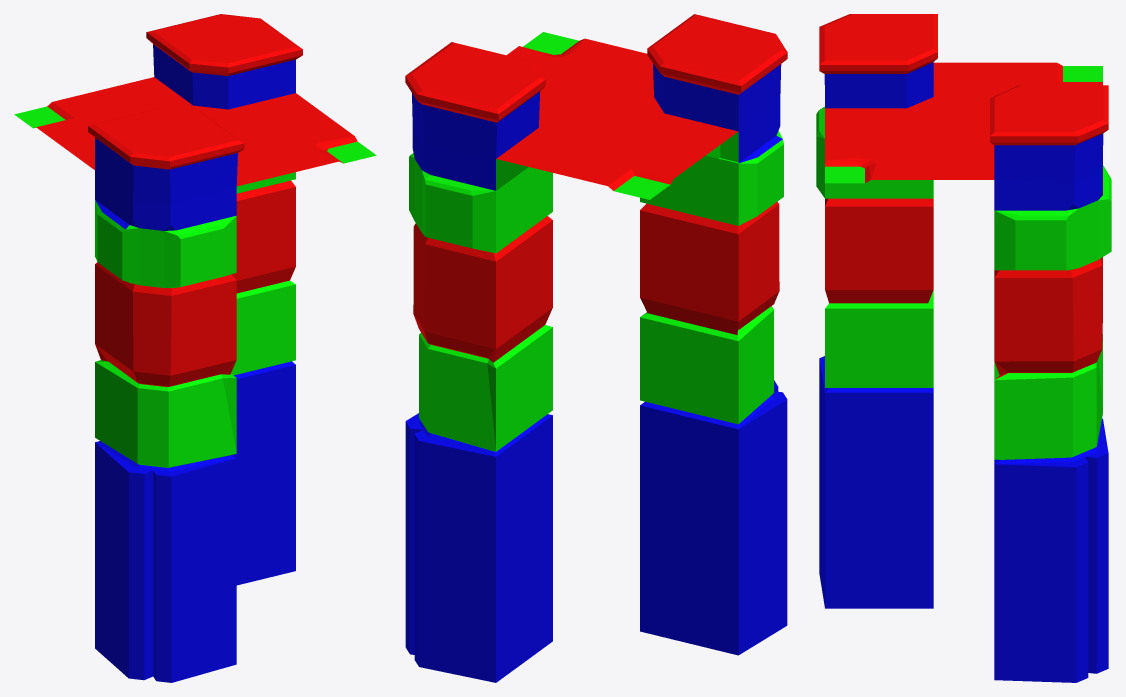
The model's file is dungeon_base_mergedCorner.fbx.
The picture shows the model from 3 angles, left to right: view 1: azimuth 30°, elevation 25°; view 2: azimuth 150°, elevation 25°; view 3: azimuth 270°, elevation 25°; orthographic projection. The views are drawn at different scales.
Parts seen in each view (by area): view 1: dungeon_base_mergedCorner; view 2: dungeon_base_mergedCorner; view 3: dungeon_base_mergedCorner.
Boxes of the visible parts, left/top/right/bottom form: dungeon_base_mergedCorner: left=14, top=14, right=376, bottom=682; dungeon_base_mergedCorner: left=405, top=14, right=787, bottom=682; dungeon_base_mergedCorner: left=816, top=14, right=1111, bottom=682.
Bounding box in the file's own units: 213 × 213 × 435.
